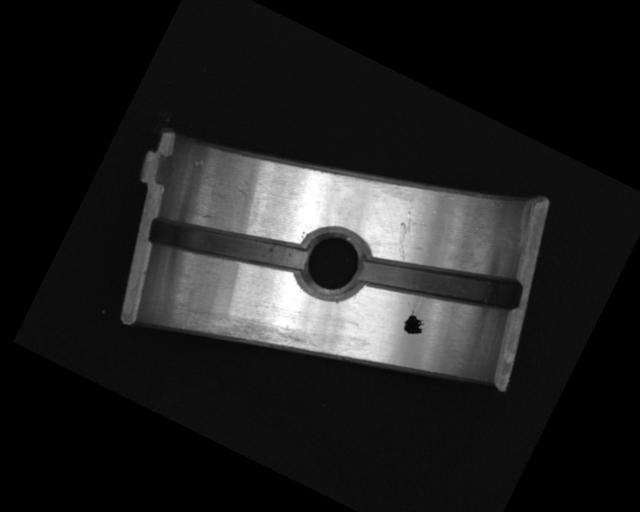blot: (399, 308, 430, 340)
bruise: (234, 185, 254, 200), (190, 156, 206, 170)
gap: (356, 218, 525, 348), (144, 184, 310, 307)
hole: (285, 217, 376, 311)
nick: (384, 209, 425, 261)
scratch: (176, 279, 326, 388)
